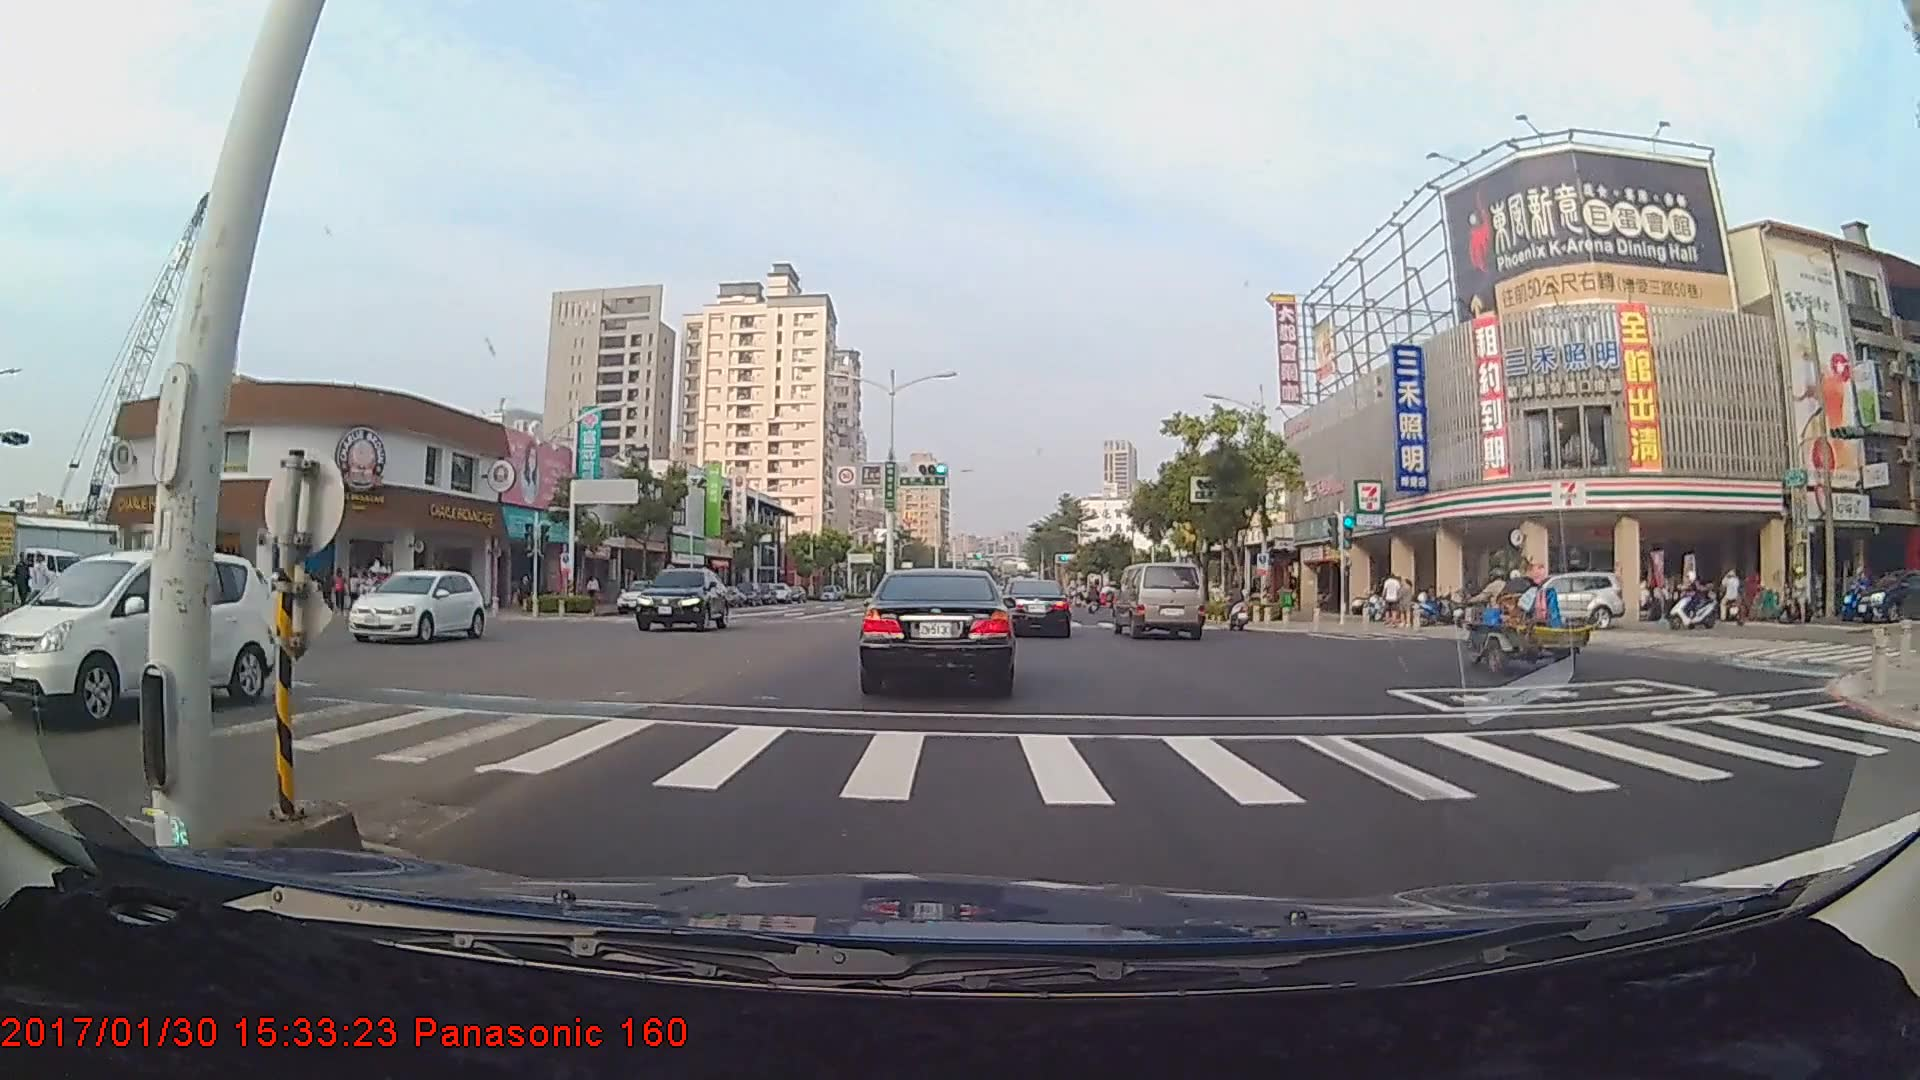pedestrian: (31, 551, 56, 629), (13, 551, 33, 616), (1380, 571, 1401, 627)
rider: (1663, 567, 1728, 637), (1216, 581, 1256, 635)
vehicle: (8, 548, 275, 715), (859, 562, 1015, 694), (344, 570, 482, 646), (1468, 573, 1619, 632), (1114, 562, 1203, 640), (635, 567, 729, 633), (999, 577, 1072, 638), (615, 577, 665, 612)
